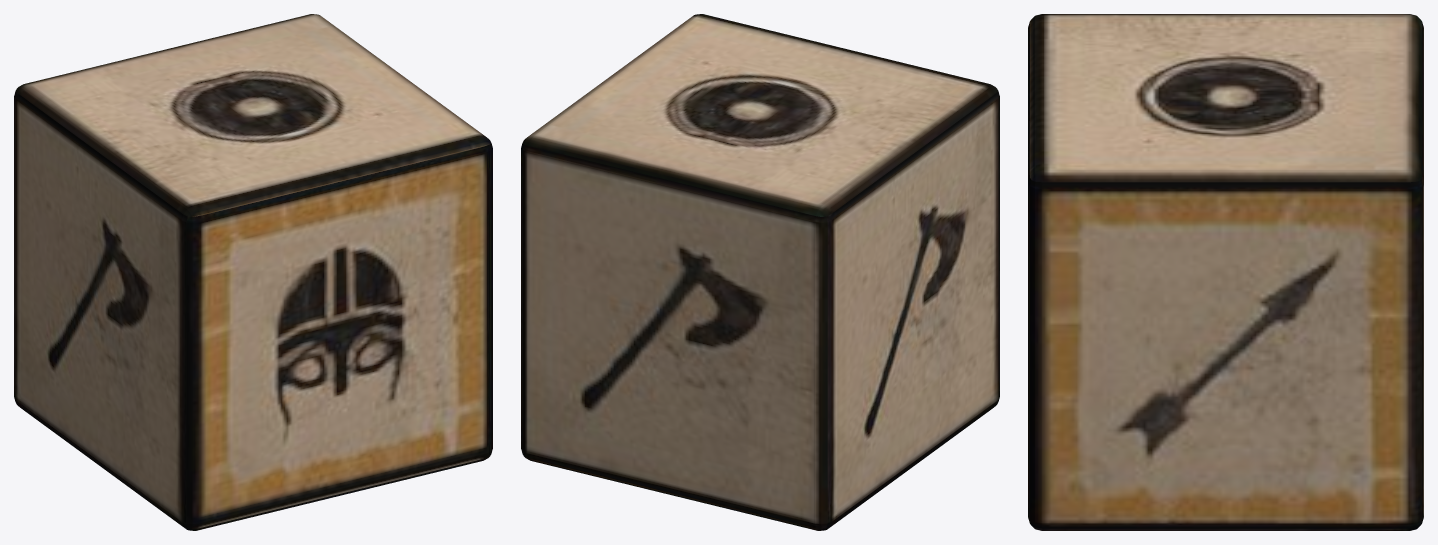
The model's file is dice3.glb.
The picture shows the model from 3 angles, left to right: view 1: azimuth 30°, elevation 25°; view 2: azimuth 150°, elevation 25°; view 3: azimuth 270°, elevation 25°; orthographic projection. The views are drawn at different scales.
Parts seen in each view (by area): view 1: Cube; view 2: Cube; view 3: Cube.
Boxes of the visible parts, x1,y1,x2,y2 form: Cube: (14, 14, 492, 530); Cube: (521, 14, 999, 530); Cube: (1028, 14, 1423, 530).
Size of the model in its own units: 2 by 2 by 2.
Materials: 1 (1 with a texture image).
